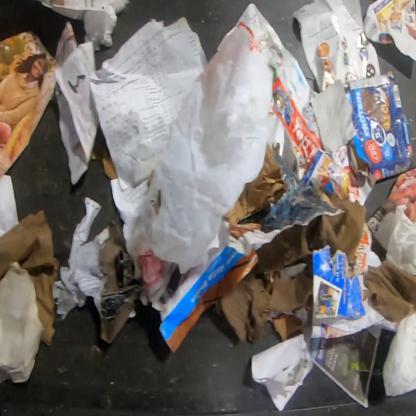cardboard: (213, 192, 368, 343), (0, 210, 59, 349), (343, 70, 414, 185), (362, 260, 415, 323)
soft_plastic: (136, 25, 274, 274)
